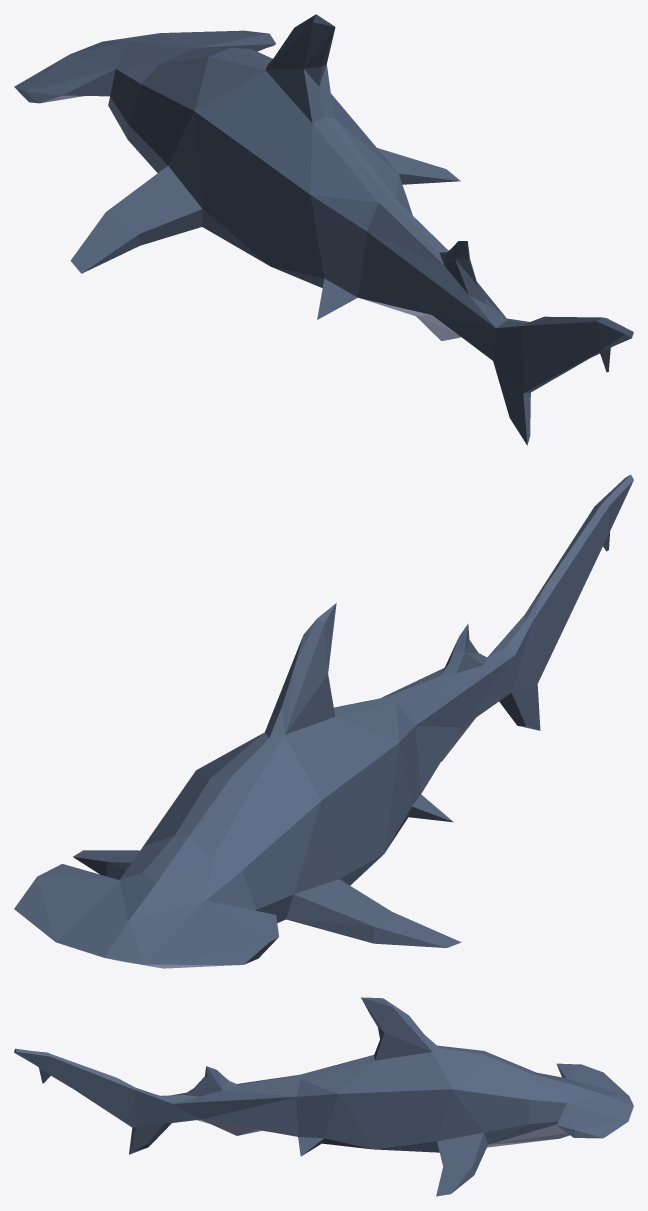
The model's file is Hammerhead.glb.
3 renders of one model, top to bottom at view 1: azimuth 30°, elevation 25°; view 2: azimuth 150°, elevation 25°; view 3: azimuth 270°, elevation 25°, orthographic. The views are drawn at different scales.
Parts seen in each view (by area): view 1: Hammerhead; view 2: Hammerhead; view 3: Hammerhead.
Part boxes in pixels (x1,y1,x2,y2): Hammerhead: [14, 14, 633, 445]; Hammerhead: [14, 474, 633, 968]; Hammerhead: [14, 997, 633, 1196].
Size of the model in its own units: 621 by 425 by 1500.
